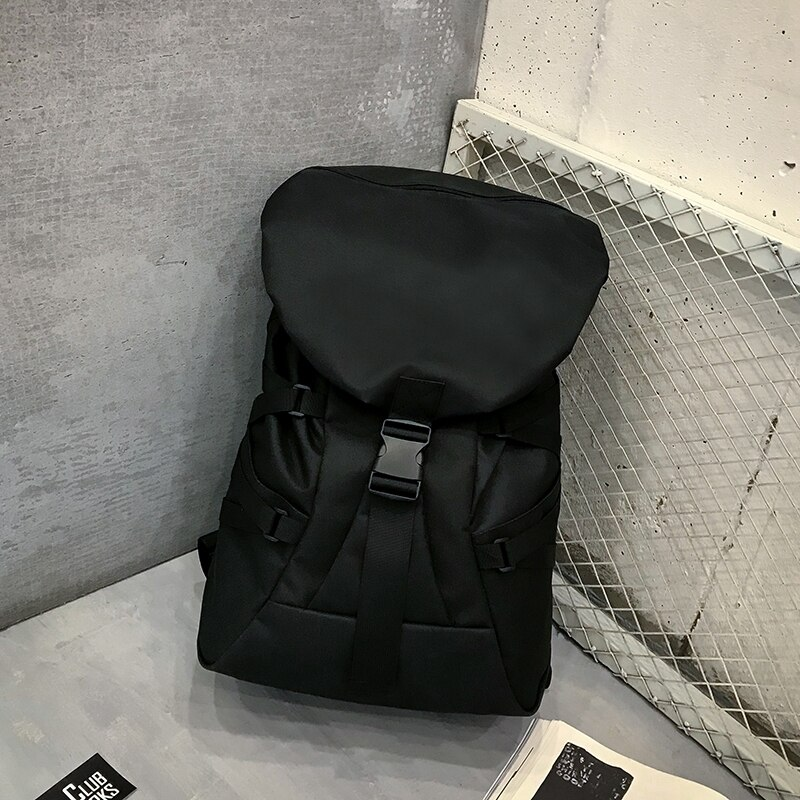Men's Backpacks: (193, 163, 610, 720)
